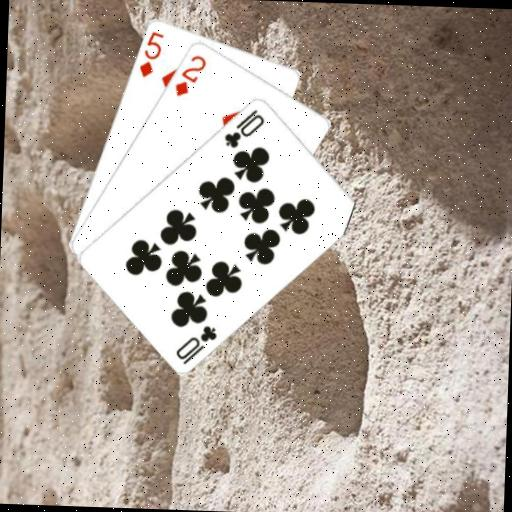10C: (220, 104, 267, 151), (172, 320, 219, 367)
2D: (171, 51, 208, 98)
5D: (135, 27, 165, 78)
